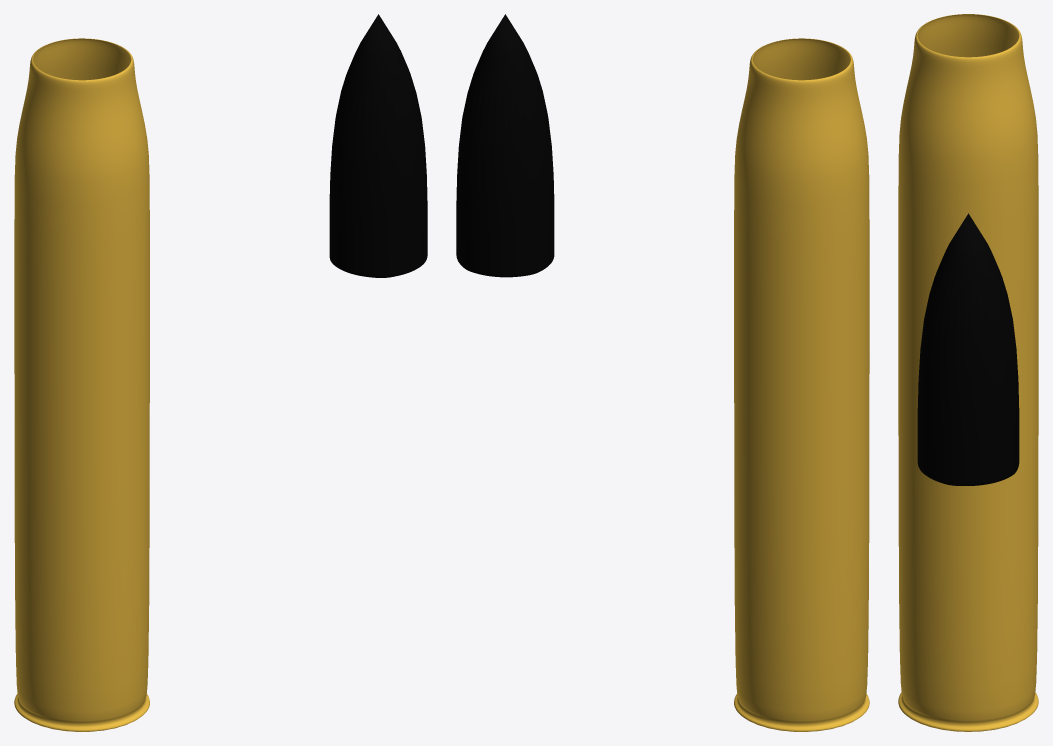
Rendered from autocannon_seperated.fbx.
3 views of the same model, side by side, from view 1: azimuth 30°, elevation 25°; view 2: azimuth 150°, elevation 25°; view 3: azimuth 270°, elevation 25° (orthographic). The views are drawn at different scales.
Visible parts, largest first — view 1: Cylinder, Cylinder.001; view 2: Cylinder, Cylinder.001; view 3: Cylinder, Cylinder.001.
Boxes of the visible parts, x1,y1,x2,y2 form: Cylinder: [14, 38, 149, 731]; Cylinder.001: [329, 14, 427, 277]; Cylinder: [734, 38, 869, 731]; Cylinder.001: [456, 14, 554, 277]; Cylinder: [898, 14, 1038, 731]; Cylinder.001: [917, 213, 1019, 485].
Bounding box in the file's own units: 3.37 × 5.24 × 0.9956.
